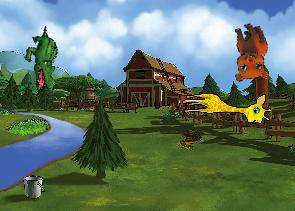bear: (220, 19, 276, 86)
crocodile: (15, 25, 71, 94)
giraffe: (181, 93, 271, 124)
